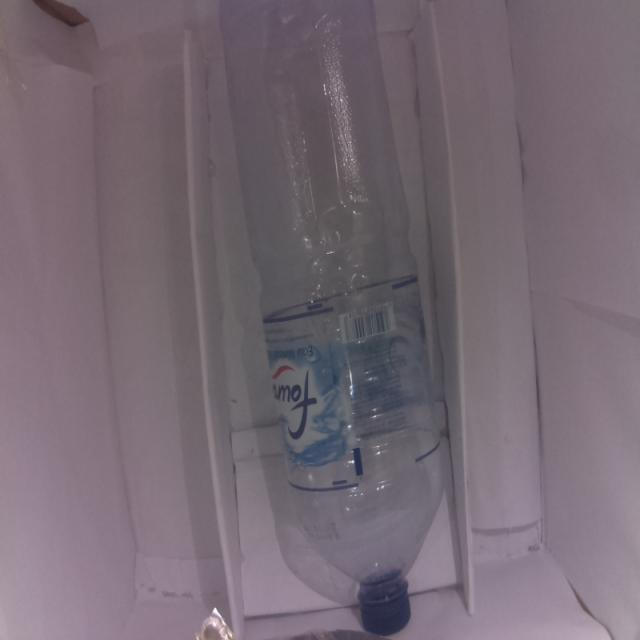plasticbottlecap: (353, 574, 424, 638)
